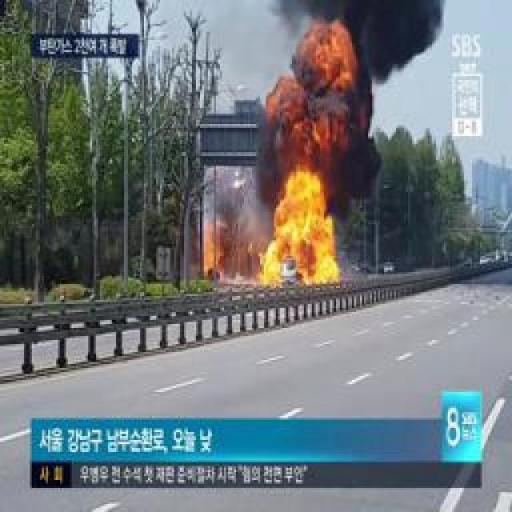smoke: (264, 182, 334, 282), (204, 218, 226, 268)
